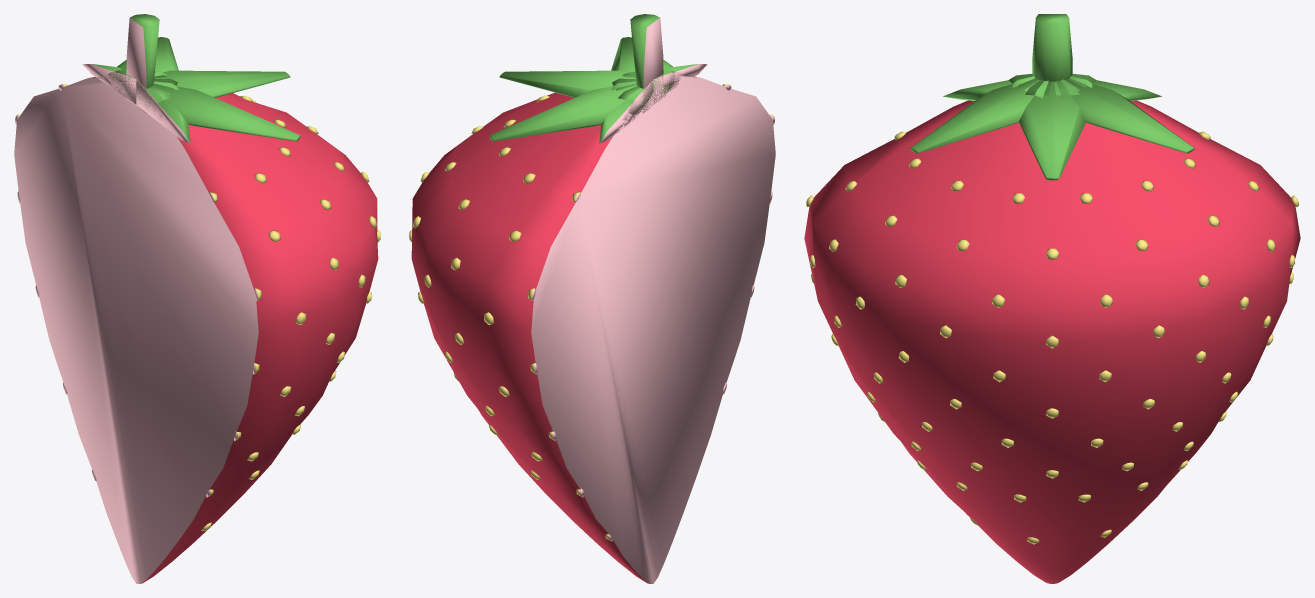
Rendered from Strawberry_Half_A.fbx.
3 views of the same model, side by side, from view 1: azimuth 30°, elevation 25°; view 2: azimuth 150°, elevation 25°; view 3: azimuth 270°, elevation 25° (orthographic).
Parts seen in each view (by area): view 1: Strawberry_Half_A; view 2: Strawberry_Half_A; view 3: Strawberry_Half_A.
Part boxes in pixels (x1=…): Strawberry_Half_A: x1=14, y1=14, x2=380, y2=583; Strawberry_Half_A: x1=409, y1=14, x2=775, y2=583; Strawberry_Half_A: x1=804, y1=14, x2=1300, y2=583.
Bounding box in the file's own units: 0.479 × 1.21 × 0.9556.
